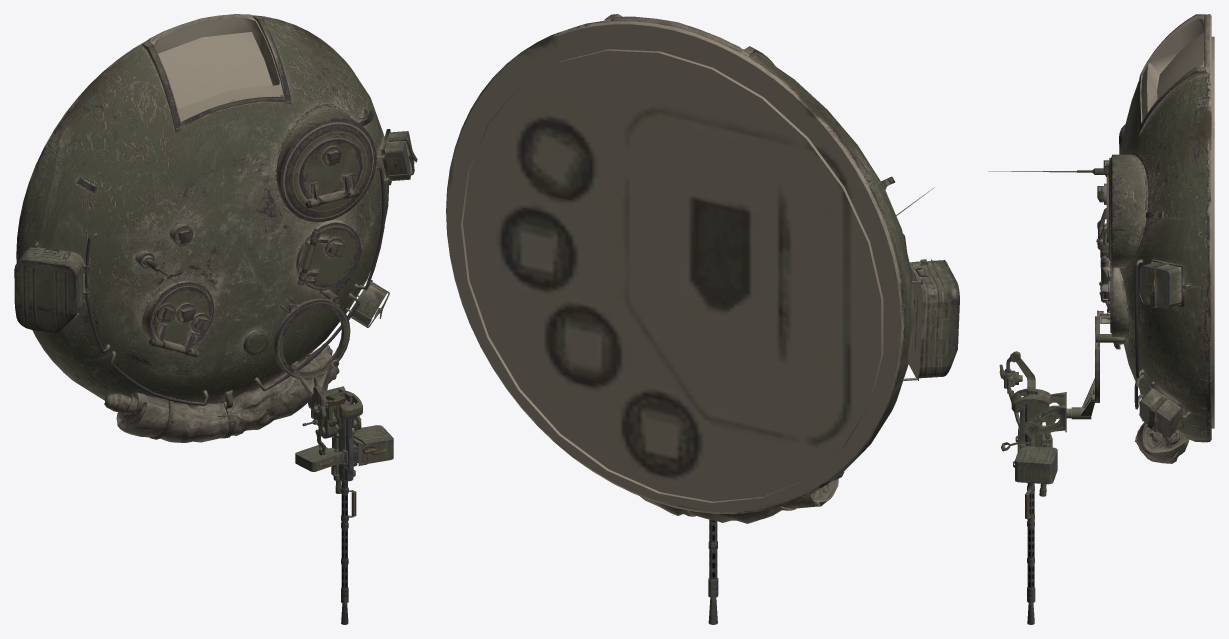
File: Turret_01.glb
The picture shows the model from 3 angles, left to right: view 1: azimuth 30°, elevation 25°; view 2: azimuth 150°, elevation 25°; view 3: azimuth 270°, elevation 25°; orthographic projection. The views are drawn at different scales.
Parts seen in each view (by area): view 1: set_0_group_0; view 2: set_0_group_0; view 3: set_0_group_0.
Part boxes in pixels (bbox=[...]): set_0_group_0: bbox=[14, 14, 417, 624]; set_0_group_0: bbox=[446, 14, 959, 624]; set_0_group_0: bbox=[988, 14, 1214, 624].
Bounding box in the file's own units: 3.61 × 4.79 × 1.74.
1 material, 1 textured.
